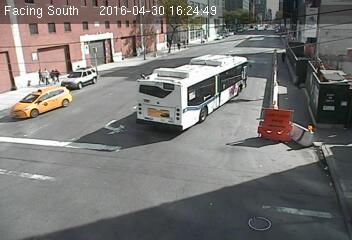neg: (203, 123, 223, 150), (244, 41, 262, 65), (183, 76, 200, 99), (123, 33, 140, 55), (216, 63, 226, 76), (276, 110, 286, 122), (133, 100, 141, 110)
pos: (50, 63, 64, 82), (38, 63, 51, 80), (44, 65, 56, 80), (278, 49, 289, 63), (175, 39, 182, 49)
